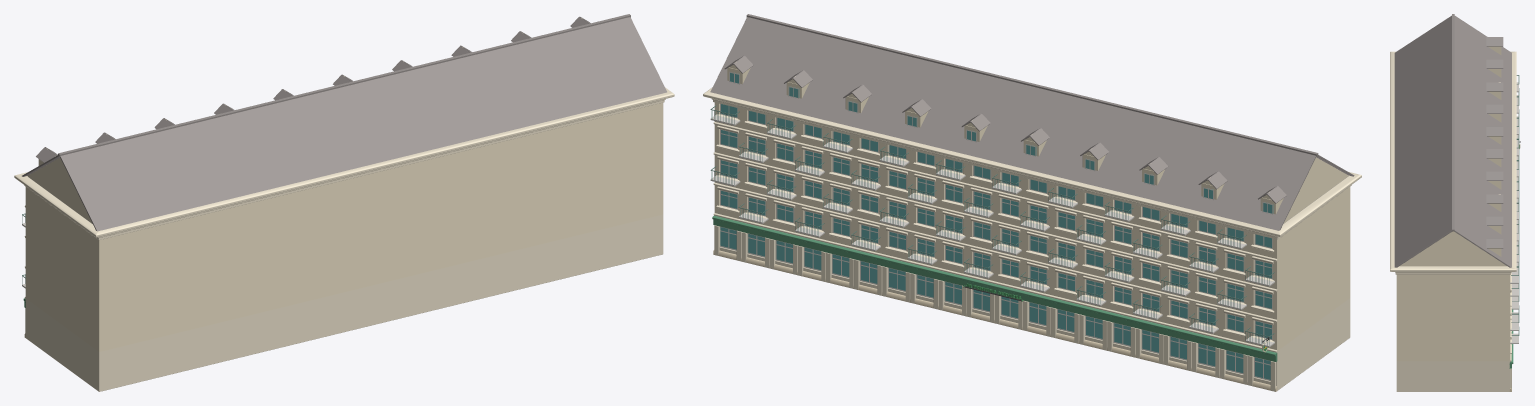
The model's file is terminus_n.glb.
3 renders of one model, left to right at view 1: azimuth 30°, elevation 25°; view 2: azimuth 150°, elevation 25°; view 3: azimuth 270°, elevation 25°, orthographic. The views are drawn at different scales.
Parts seen in each view (by area): view 1: shell, props, trim; view 2: shell, props, trim, frames; view 3: props, shell, trim.
Boxes of the visible parts, x1,y1,x2,y2 form: shell: (25,102,663,391); props: (22,14,666,288); trim: (14,87,674,337); shell: (714,102,1350,390); props: (710,14,1354,347); trim: (703,87,1361,391); frames: (720,71,1272,380); props: (1394,14,1519,343); shell: (1396,274,1510,391); trim: (1390,51,1516,391).
Size of the model in its own units: 63.6 by 22.28 by 16.13.
